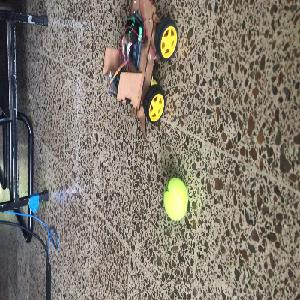Ball: (164, 177, 188, 223)
Robot: (100, 8, 178, 137)
